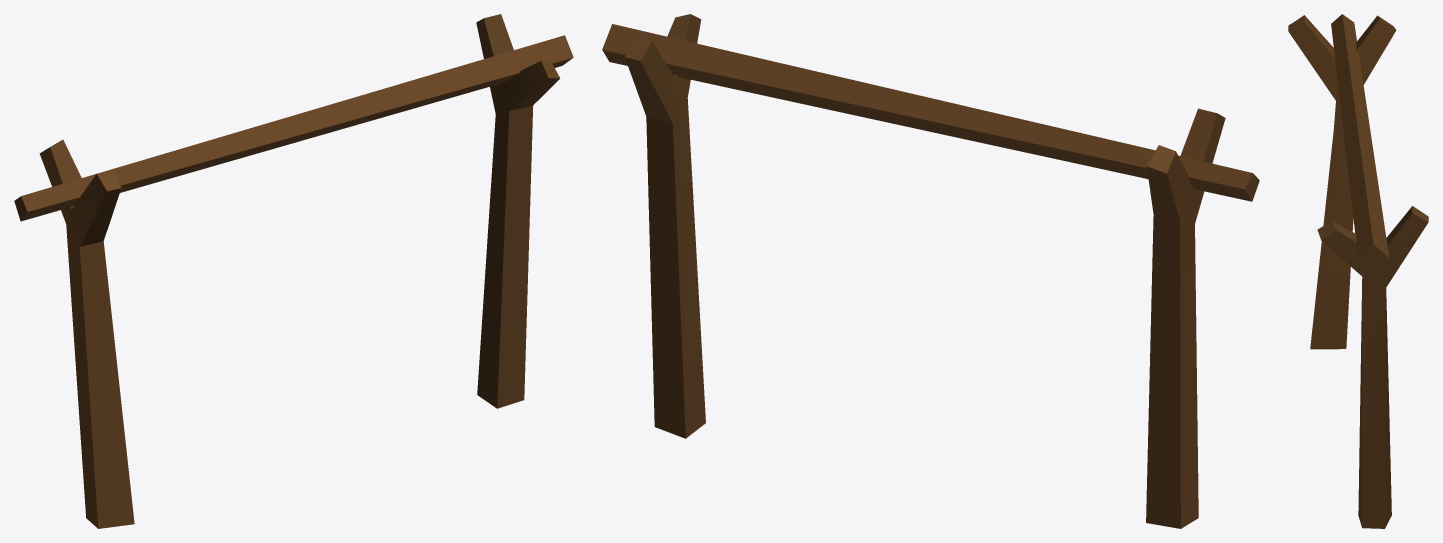
Rendered from SM_CampfireCookingPole.fbx.
3 renders of one model, left to right at view 1: azimuth 30°, elevation 25°; view 2: azimuth 150°, elevation 25°; view 3: azimuth 270°, elevation 25°, orthographic. The views are drawn at different scales.
Visible parts, largest first — view 1: SM_CampfireCookingPole; view 2: SM_CampfireCookingPole; view 3: SM_CampfireCookingPole.
Boxes of the visible parts, bbox=[...] form: SM_CampfireCookingPole: bbox=[14, 14, 573, 528]; SM_CampfireCookingPole: bbox=[602, 14, 1259, 528]; SM_CampfireCookingPole: bbox=[1288, 14, 1428, 528].
Bounding box in the file's own units: 145 × 89.61 × 35.84.
